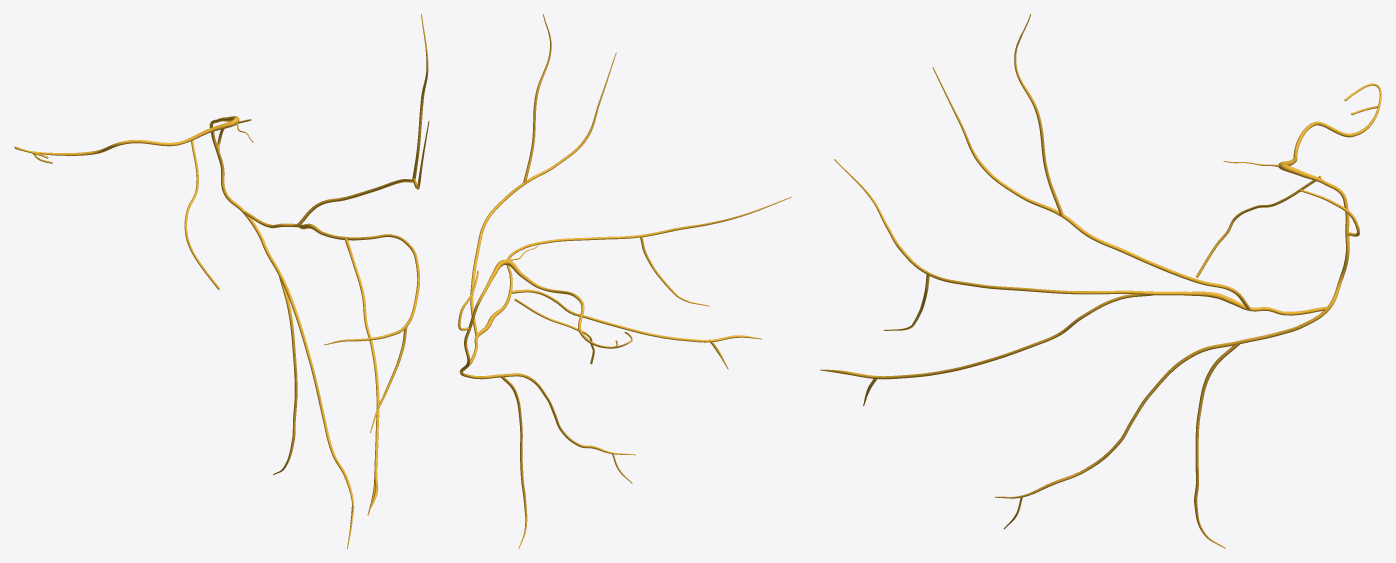
The model's file is nervoso-facial-nerve-vii-l.glb.
3 renders of one model, left to right at view 1: azimuth 30°, elevation 25°; view 2: azimuth 150°, elevation 25°; view 3: azimuth 270°, elevation 25°, orthographic. The views are drawn at different scales.
Visible parts, largest first — view 1: Facial nerve (VII).l; view 2: Facial nerve (VII).l; view 3: Facial nerve (VII).l.
Part boxes in pixels (bbox=[...]): Facial nerve (VII).l: bbox=[14, 14, 429, 548]; Facial nerve (VII).l: bbox=[458, 14, 791, 548]; Facial nerve (VII).l: bbox=[820, 14, 1381, 548].
Bounding box in the file's own units: 0.0654 × 0.1161 × 0.1042.
